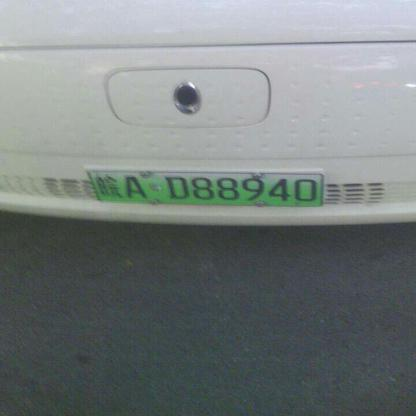lp: (86, 168, 322, 205)
